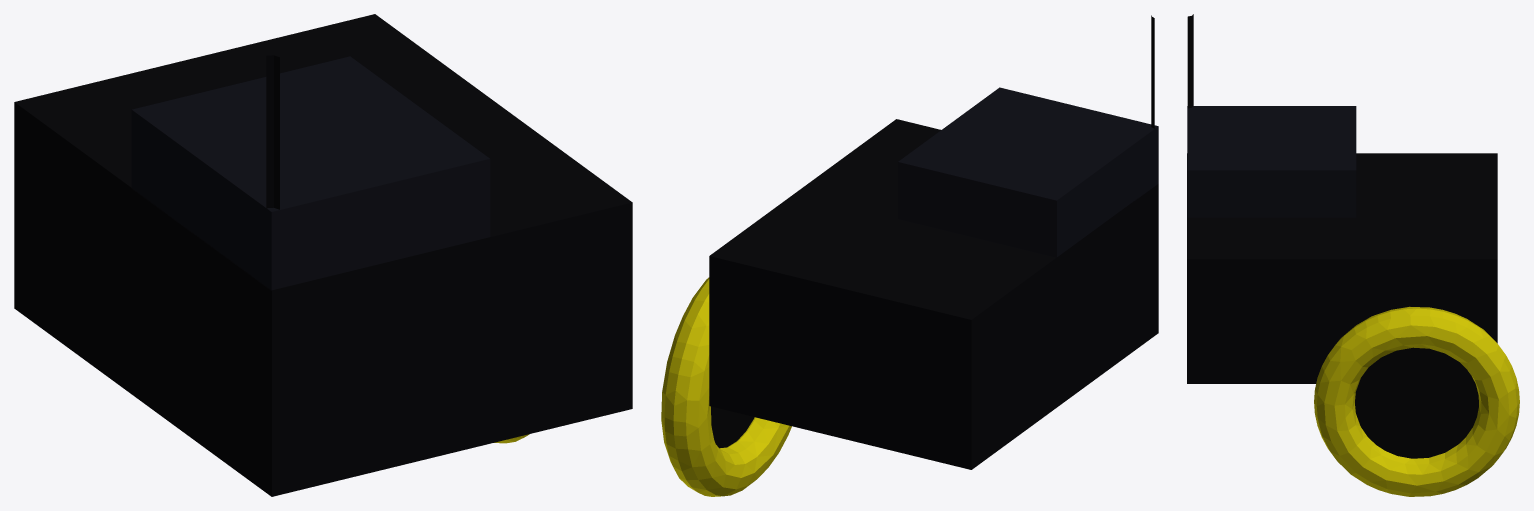
File: rover8.obj
3 views of the same model, side by side, from view 1: azimuth 30°, elevation 25°; view 2: azimuth 150°, elevation 25°; view 3: azimuth 270°, elevation 25° (orthographic). The views are drawn at different scales.
Parts seen in each view (by area): view 1: Body, Body_Top, Antenna; view 2: Body, Body_Top, Wheel, Plane; view 3: Body, Wheel, Body_Top, Plane, Antenna.
Boxes of the visible parts, left/top/right/bottom form: Body: left=14, top=14, right=632, bottom=496; Body_Top: left=131, top=56, right=490, bottom=290; Antenna: left=266, top=55, right=279, bottom=209; Body: left=709, top=119, right=1158, bottom=469; Body_Top: left=898, top=87, right=1158, bottom=257; Wheel: left=661, top=277, right=791, bottom=496; Plane: left=711, top=406, right=754, bottom=448; Body: left=1187, top=153, right=1497, bottom=383; Wheel: left=1314, top=306, right=1519, bottom=496; Body_Top: left=1187, top=106, right=1356, bottom=217; Plane: left=1355, top=347, right=1478, bottom=458; Antenna: left=1187, top=14, right=1193, bottom=108.
Bounding box in the file's own units: 0.1799 × 0.2476 × 0.2042.
